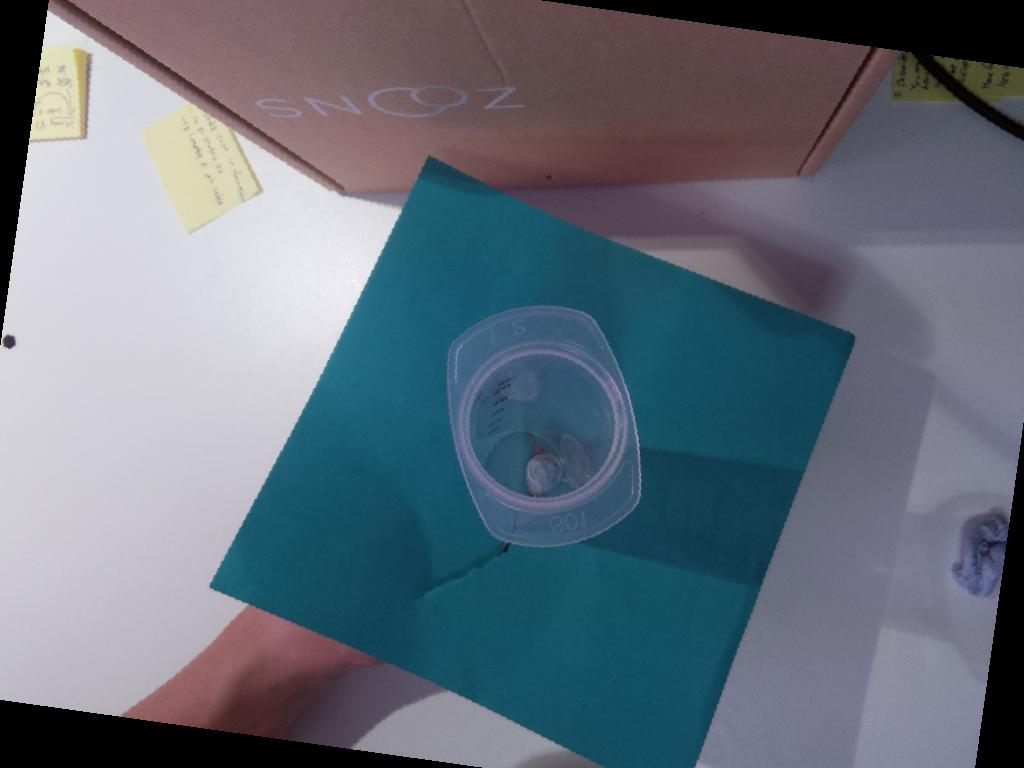clean: (446, 303, 644, 549)
